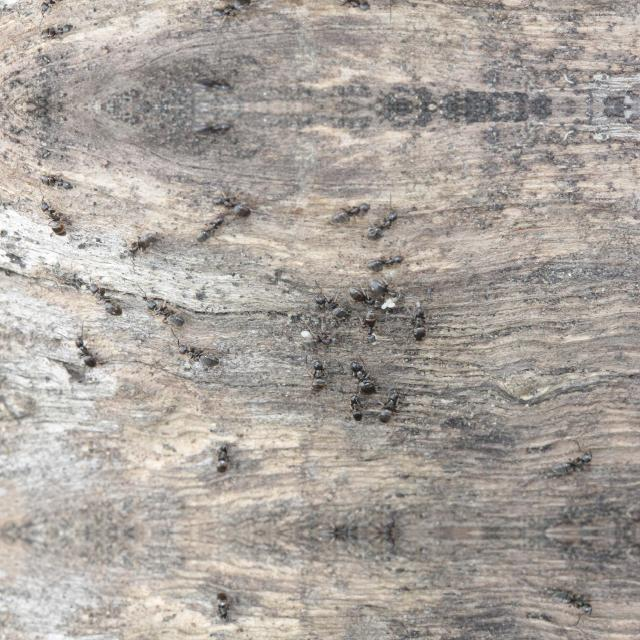Tapinoma: (542, 584, 602, 620), (138, 292, 194, 330), (542, 446, 602, 480), (359, 204, 405, 242), (170, 338, 228, 368), (323, 194, 377, 226), (64, 330, 106, 370), (81, 280, 125, 318), (342, 354, 382, 392), (33, 198, 73, 236), (119, 226, 165, 258), (208, 190, 260, 218), (371, 386, 409, 424), (306, 289, 352, 319), (403, 302, 437, 342), (186, 114, 238, 140), (186, 72, 238, 98), (206, 438, 240, 476), (190, 213, 230, 245), (206, 590, 240, 626), (302, 354, 334, 392), (344, 284, 388, 310), (208, 0, 260, 22), (360, 249, 410, 271), (297, 328, 345, 350), (356, 314, 384, 346), (323, 0, 377, 16), (342, 392, 370, 422), (368, 278, 406, 300), (33, 0, 73, 14)
